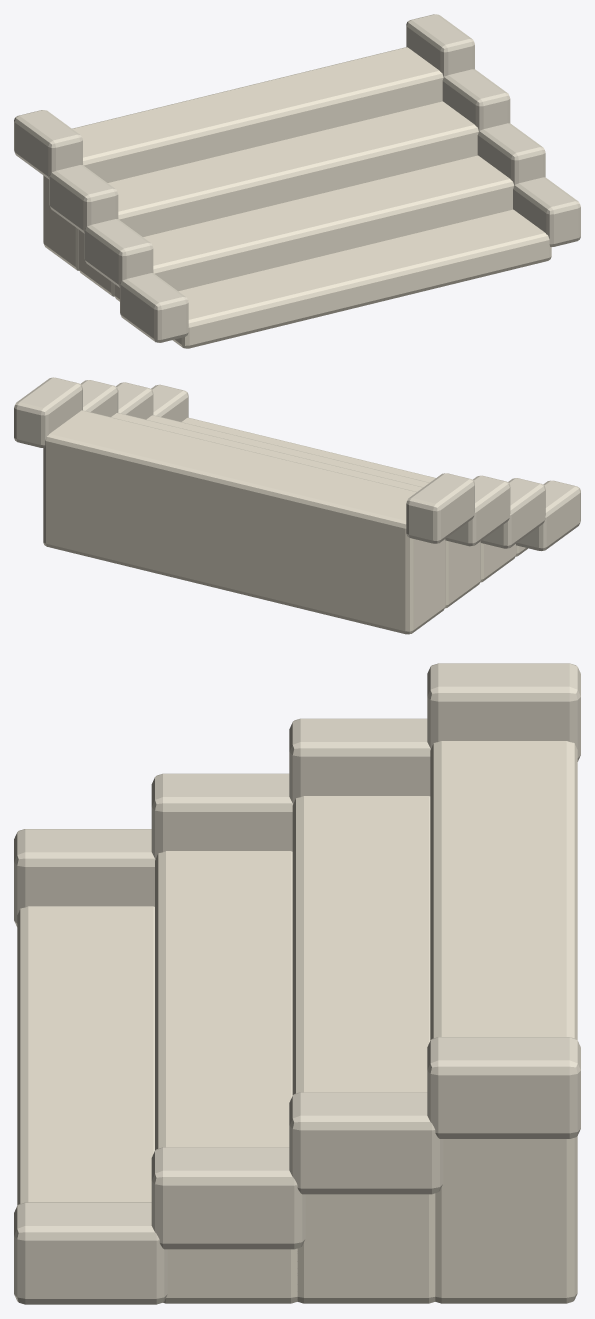
File: Test_CheonRef_StoneStairs.fbx
3 renders of one model, top to bottom at view 1: azimuth 30°, elevation 25°; view 2: azimuth 150°, elevation 25°; view 3: azimuth 270°, elevation 25°, orthographic. The views are drawn at different scales.
Visible parts, largest first — view 1: WideStoneStep.003, WideStoneStep.002, WideStoneStep.001, WideStoneStep, StairSideStone, StairSideStone.006, StairSideStone.004, StairSideStone.002, StairSideStone.001, StairSideStone.007, StairSideStone.003, StairSideStone.005; view 2: WideStoneStep.003, WideStoneStep.002, StairSideStone.006, StairSideStone.007, WideStoneStep.001, StairSideStone.004, StairSideStone.002, StairSideStone, WideStoneStep, StairSideStone.003, StairSideStone.001, StairSideStone.005; view 3: WideStoneStep.003, WideStoneStep.002, WideStoneStep.001, WideStoneStep, StairSideStone.007, StairSideStone.001, StairSideStone.003, StairSideStone.005, StairSideStone.006, StairSideStone.002, StairSideStone.004, StairSideStone.
Part boxes in pixels (x1,y1,x2,y2): WideStoneStep.003: [43, 47, 443, 270]; WideStoneStep.002: [78, 101, 478, 296]; WideStoneStep.001: [114, 155, 513, 301]; WideStoneStep: [172, 209, 551, 348]; StairSideStone: [120, 273, 188, 342]; StairSideStone.006: [14, 110, 82, 179]; StairSideStone.004: [49, 165, 118, 233]; StairSideStone.002: [84, 219, 153, 287]; StairSideStone.001: [513, 177, 580, 246]; StairSideStone.007: [406, 14, 474, 76]; StairSideStone.003: [477, 123, 545, 184]; StairSideStone.005: [442, 69, 510, 130]; WideStoneStep.003: [43, 410, 445, 634]; WideStoneStep.002: [111, 413, 480, 608]; StairSideStone.006: [406, 473, 474, 543]; StairSideStone.007: [14, 377, 82, 447]; WideStoneStep.001: [146, 415, 516, 582]; StairSideStone.004: [445, 475, 510, 546]; StairSideStone.002: [480, 478, 545, 548]; StairSideStone: [516, 480, 580, 551]; WideStoneStep: [182, 417, 527, 556]; StairSideStone.003: [116, 382, 153, 419]; StairSideStone.001: [151, 384, 188, 421]; StairSideStone.005: [81, 380, 118, 416]; WideStoneStep.003: [430, 741, 577, 1303]; WideStoneStep.002: [292, 796, 435, 1303]; WideStoneStep.001: [155, 851, 297, 1303]; WideStoneStep: [17, 906, 154, 1205]; StairSideStone.007: [427, 1037, 580, 1138]; StairSideStone.001: [14, 1202, 167, 1304]; StairSideStone.003: [151, 1147, 305, 1249]; StairSideStone.005: [289, 1092, 443, 1194]; StairSideStone.006: [427, 663, 580, 761]; StairSideStone.002: [151, 773, 292, 858]; StairSideStone.004: [289, 718, 430, 803]; StairSideStone: [14, 829, 155, 926].
Size of the model in its own units: 300 by 93 by 177.
